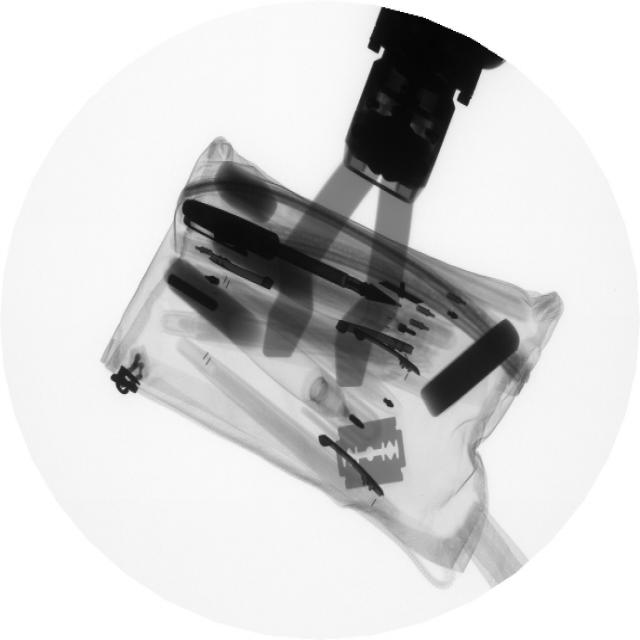BLADE: (327, 409, 416, 501)
